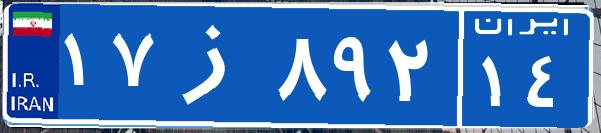1: (57, 26, 110, 107), (475, 38, 525, 113)
2: (385, 28, 445, 110)
4: (525, 38, 570, 115)
7: (110, 28, 158, 105)
8: (273, 28, 330, 110)
9: (330, 28, 385, 110)
ز: (158, 15, 273, 115)
